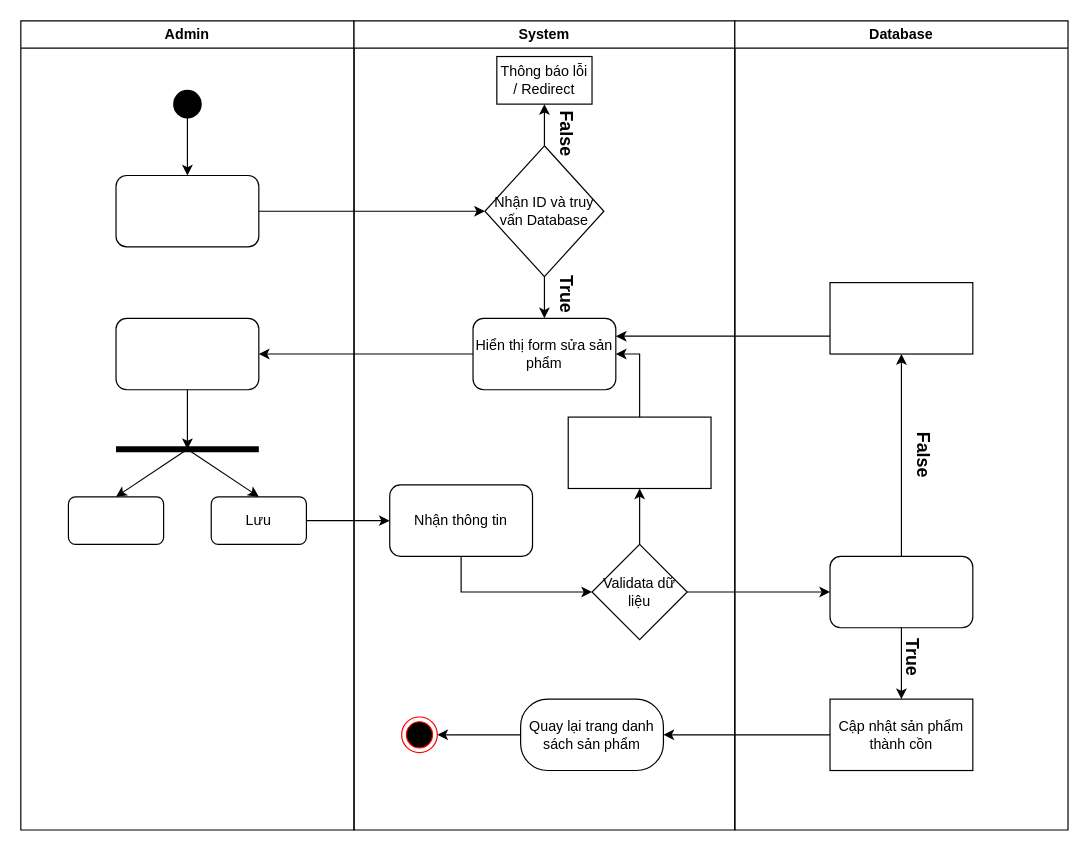
Image size: 1089x851. Some labels were removed from this diagram. Each missing label, with the centre of its shape:
Cập nhật sản phẩm: (x=901, y=591)
Cập nhật sản phẩm thất bại: (x=901, y=317)
Nhấn nút "Sửa": (x=187, y=210)
Nhập thông tin cần sửa: (x=187, y=353)
Quay lại danh sách: (x=115, y=520)
Thông báo lỗi validate: (x=639, y=452)
